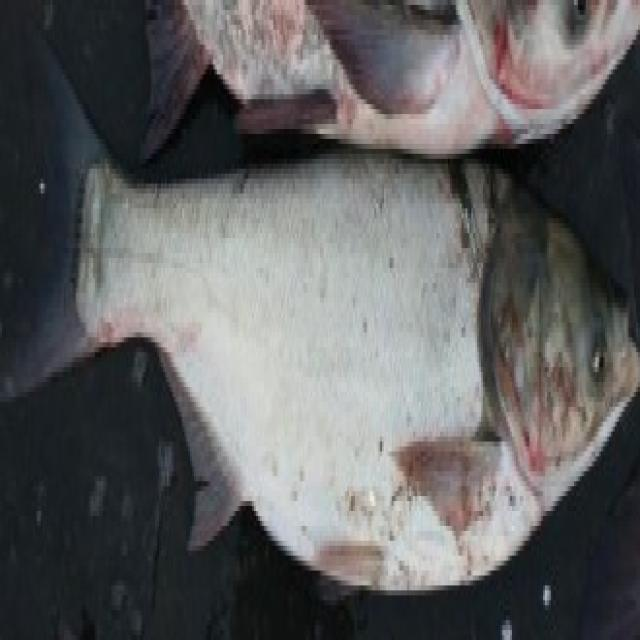Big-Head-Carp: (28, 47, 630, 611)
